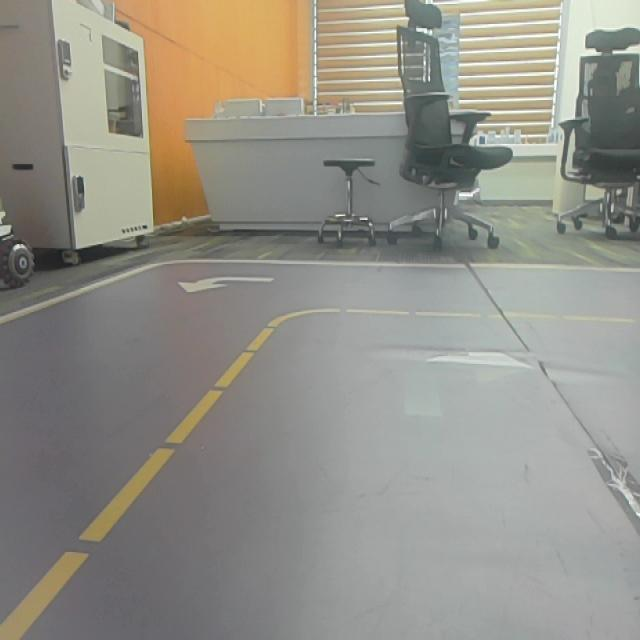left_lane: (0, 316, 282, 638)
